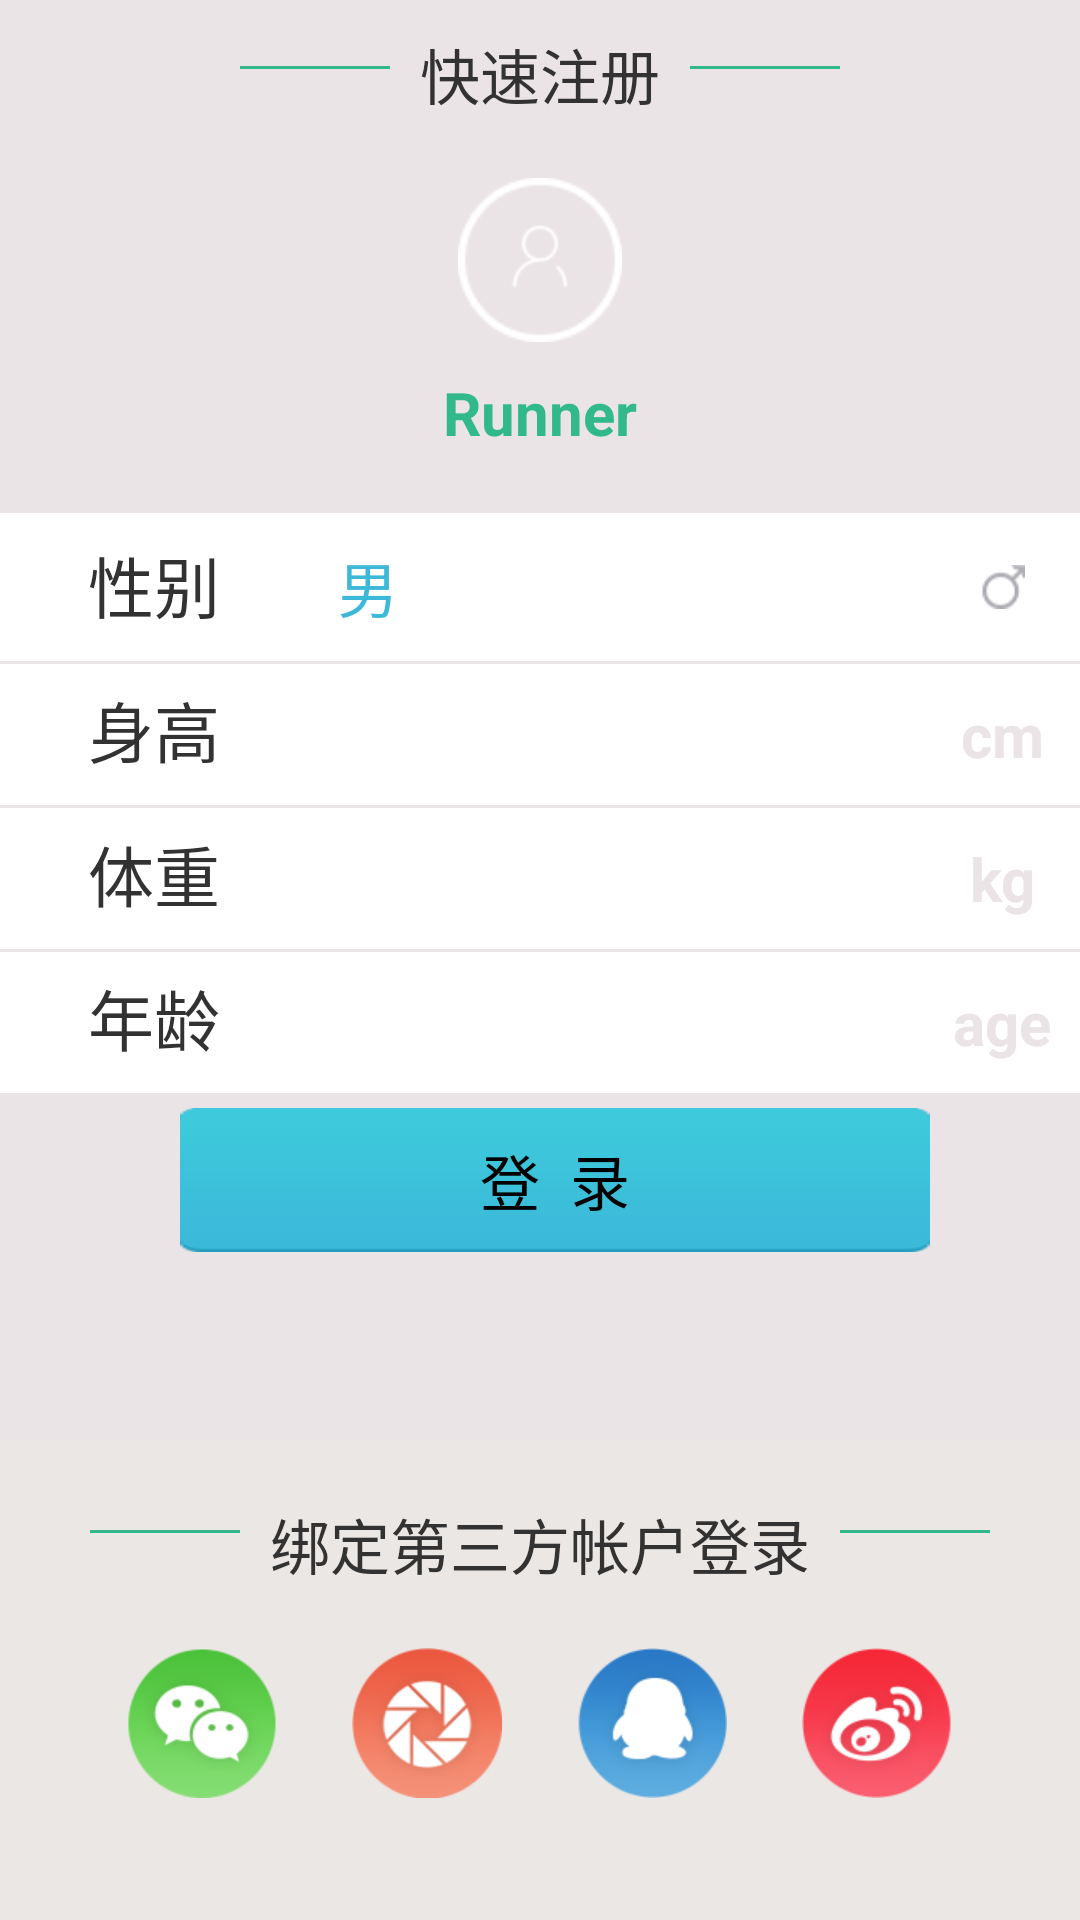

Icons on this 1080px x 1920px Android screen, each with its box as region(x1, y1, x2, y2):
sex boy: region(982, 565, 1025, 609)
